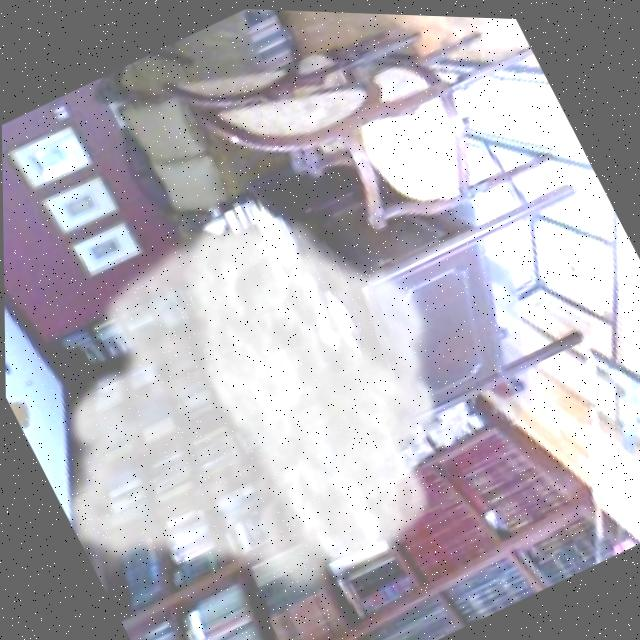Smoke: (4, 146, 525, 640)
